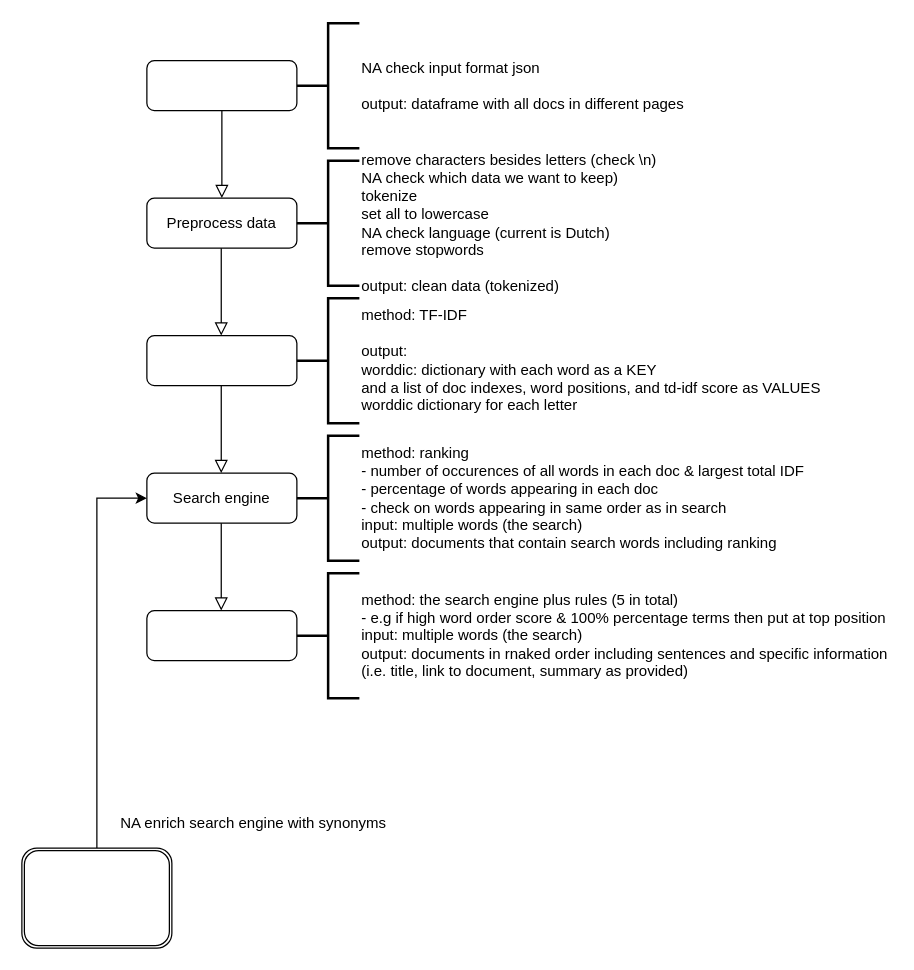
The diagram is 914 pixels wide and 970 high, and some of its shapes have lost their labels. The shapes that lost their labels are listed below. From the top down, each one's centre as x and y in pixels, then its label:
[221,85]: Load data
[221,360]: Determine relevance
[221,635]: Rank and return
[96,897]: synonyms (list from Joseph)
